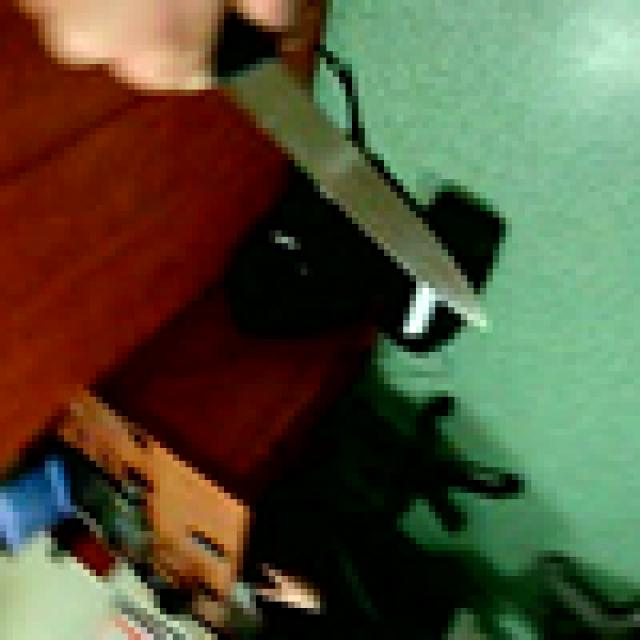weapon: (192, 7, 499, 340)
